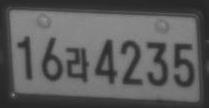1: (15, 35, 38, 81)
2: (119, 39, 144, 86)
3: (145, 41, 169, 86)
4: (94, 38, 118, 85)
5: (172, 43, 195, 88)
6: (41, 37, 64, 82)
라: (65, 46, 90, 83)
